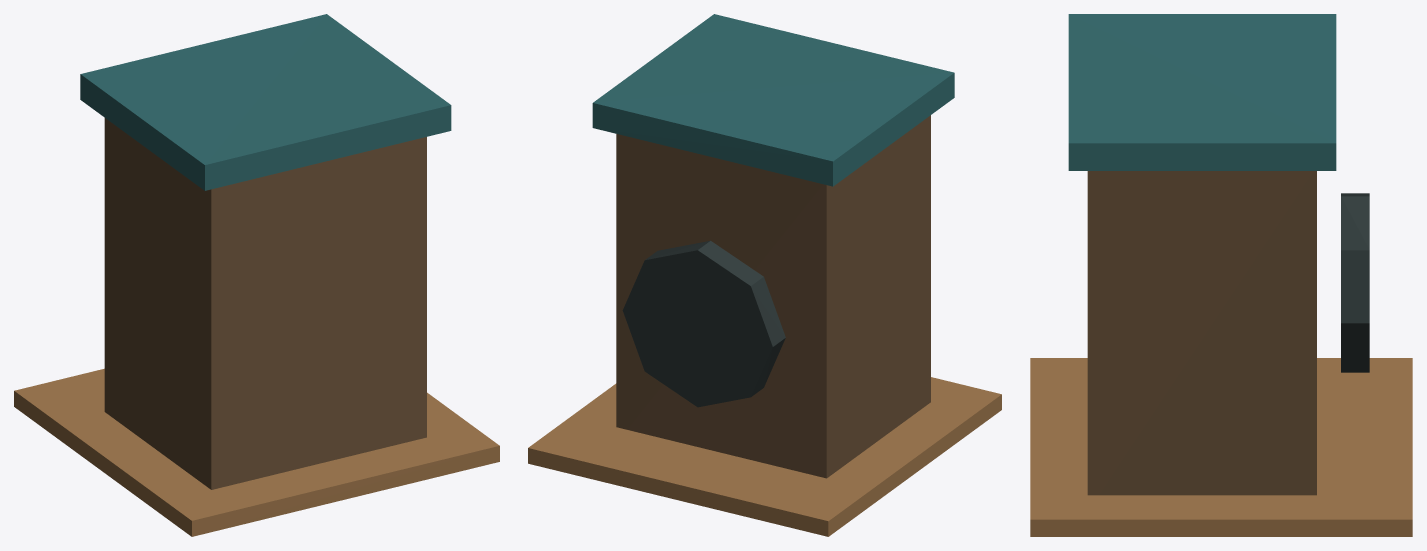
The model's file is evaporative-cooler.source.glb.
3 renders of one model, left to right at view 1: azimuth 30°, elevation 25°; view 2: azimuth 150°, elevation 25°; view 3: azimuth 270°, elevation 25°, orthographic. The views are drawn at different scales.
Parts seen in each view (by area): view 1: evaporative-cooler-body-mesh, evaporative-cooler-roof-mesh, evaporative-cooler-base-mesh; view 2: evaporative-cooler-body-mesh, evaporative-cooler-roof-mesh, evaporative-cooler-base-mesh, evaporative-cooler-fan-mesh; view 3: evaporative-cooler-body-mesh, evaporative-cooler-roof-mesh, evaporative-cooler-base-mesh, evaporative-cooler-fan-mesh.
Boxes of the visible parts, x1=… form: evaporative-cooler-body-mesh: x1=104, y1=118, x2=426, y2=489; evaporative-cooler-roof-mesh: x1=80, y1=14, x2=451, y2=190; evaporative-cooler-base-mesh: x1=14, y1=368, x2=499, y2=536; evaporative-cooler-body-mesh: x1=616, y1=115, x2=930, y2=478; evaporative-cooler-roof-mesh: x1=592, y1=14, x2=954, y2=186; evaporative-cooler-base-mesh: x1=528, y1=377, x2=1001, y2=536; evaporative-cooler-fan-mesh: x1=622, y1=240, x2=785, y2=407; evaporative-cooler-body-mesh: x1=1087, y1=171, x2=1316, y2=495; evaporative-cooler-roof-mesh: x1=1068, y1=14, x2=1336, y2=170; evaporative-cooler-base-mesh: x1=1030, y1=358, x2=1412, y2=536; evaporative-cooler-fan-mesh: x1=1341, y1=193, x2=1369, y2=372.
Size of the model in its own units: 2 by 2.18 by 2.
